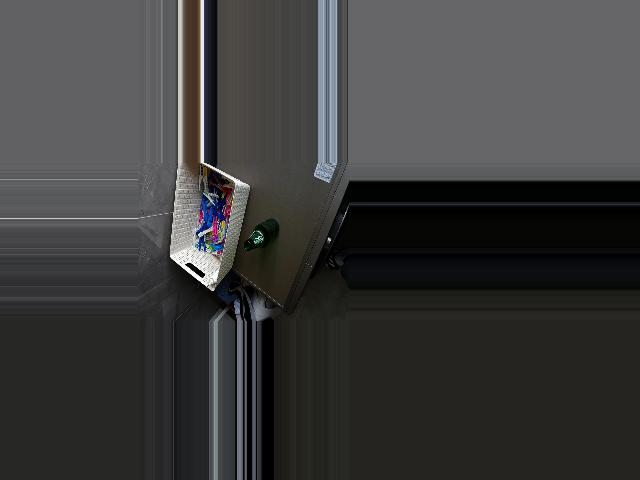beer: (244, 219, 279, 251)
